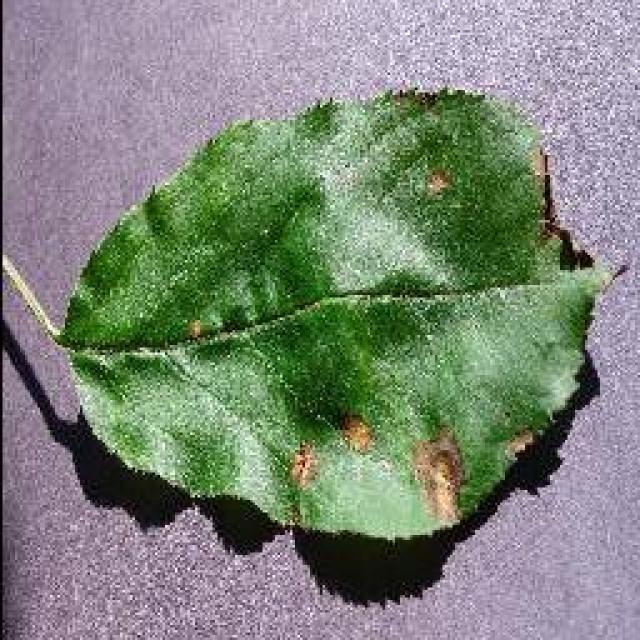Black_rot: (13, 82, 625, 542)
